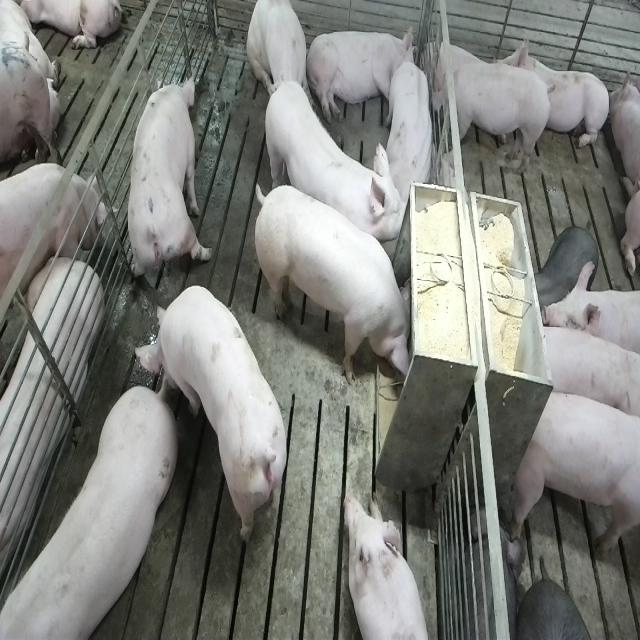Feeding: (255, 178, 420, 396)
Lateral_lying: (0, 253, 101, 604), (304, 23, 417, 126)
Sitting: (247, 1, 310, 113)
Standing: (0, 382, 174, 640), (131, 286, 286, 547), (260, 77, 395, 257), (508, 388, 638, 565), (125, 72, 211, 296), (0, 164, 106, 316), (428, 62, 552, 182), (538, 321, 638, 423), (543, 259, 640, 360)
Sternal_lying: (347, 489, 435, 640), (508, 32, 611, 155)
